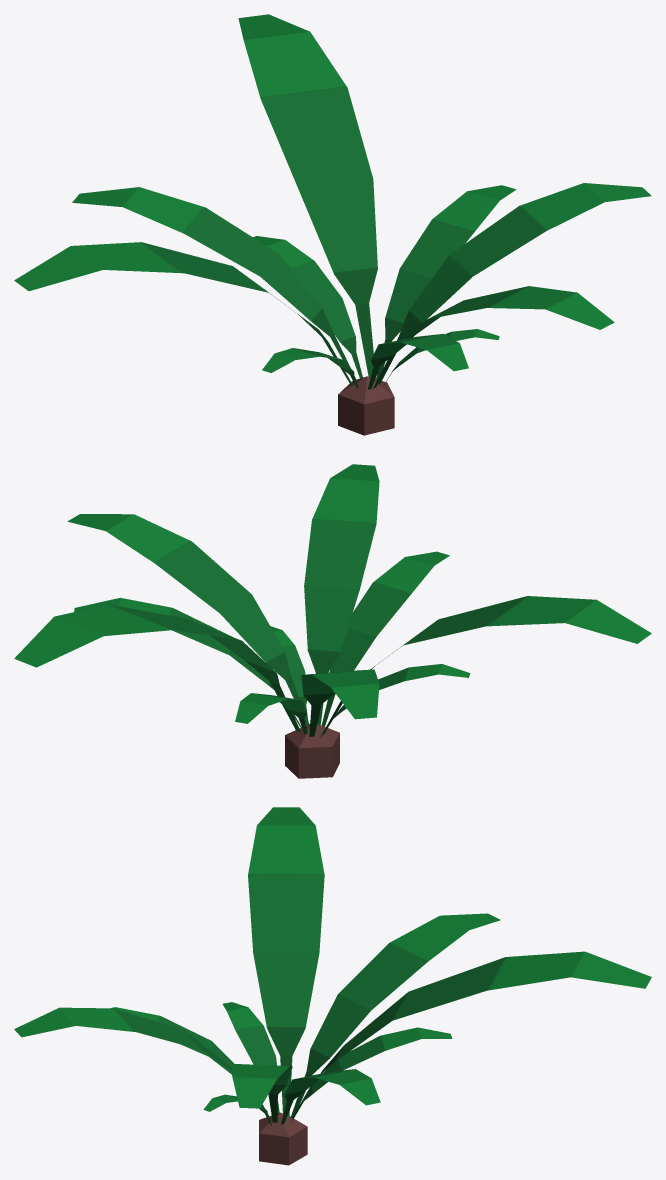
The model's file is lowpolyplant.fbx.
The picture shows the model from 3 angles, top to bottom: view 1: azimuth 30°, elevation 25°; view 2: azimuth 150°, elevation 25°; view 3: azimuth 270°, elevation 25°; orthographic projection. The views are drawn at different scales.
Parts seen in each view (by area): view 1: Sphere; view 2: Sphere; view 3: Sphere.
Part boxes in pixels (x1=…): Sphere: x1=14, y1=14, x2=651, y2=435; Sphere: x1=14, y1=464, x2=651, y2=778; Sphere: x1=14, y1=807, x2=651, y2=1165.
Bounding box in the file's own units: 674 × 263 × 682.
1 material, 1 textured.
